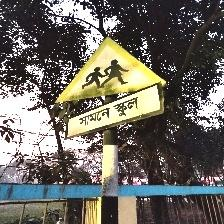School-in-front: (55, 36, 167, 140)
